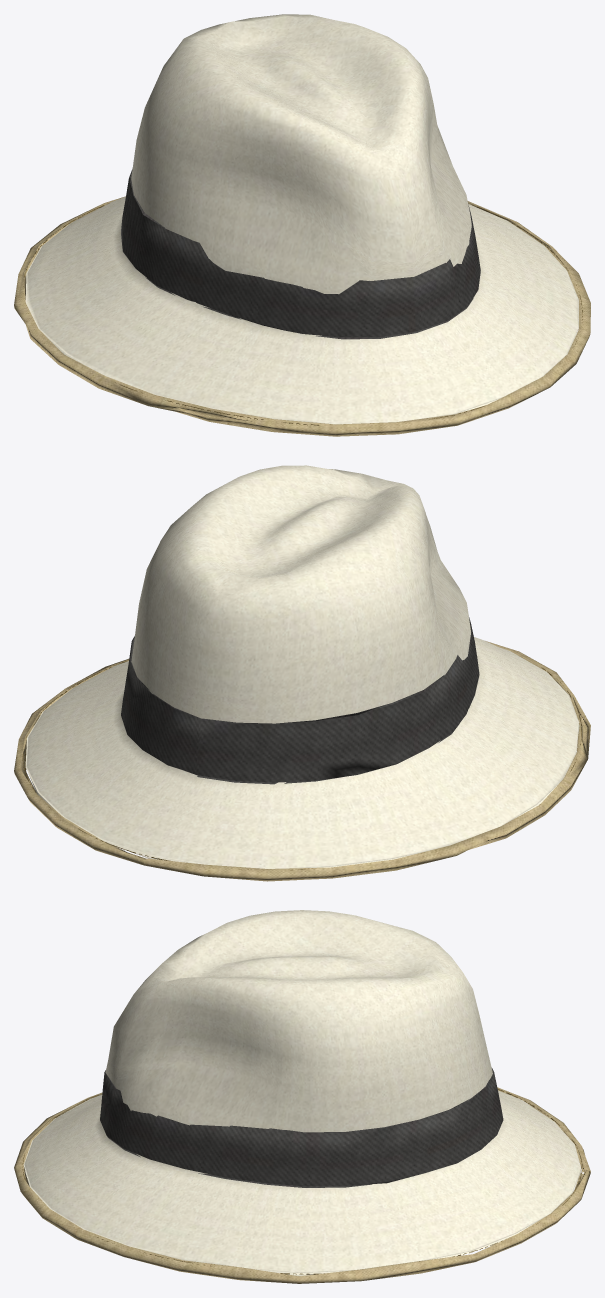
The model's file is fedora.glb.
3 renders of one model, top to bottom at view 1: azimuth 30°, elevation 25°; view 2: azimuth 150°, elevation 25°; view 3: azimuth 270°, elevation 25°, orthographic. The views are drawn at different scales.
Visible parts, largest first — view 1: Hat; view 2: Hat; view 3: Hat.
Part boxes in pixels (x1,y1,x2,y2): Hat: (14,14,590,436); Hat: (14,465,590,881); Hat: (14,910,590,1283).
Bounding box in the file's own units: 0.2996 × 0.1462 × 0.3342.
1 material, 1 textured.
